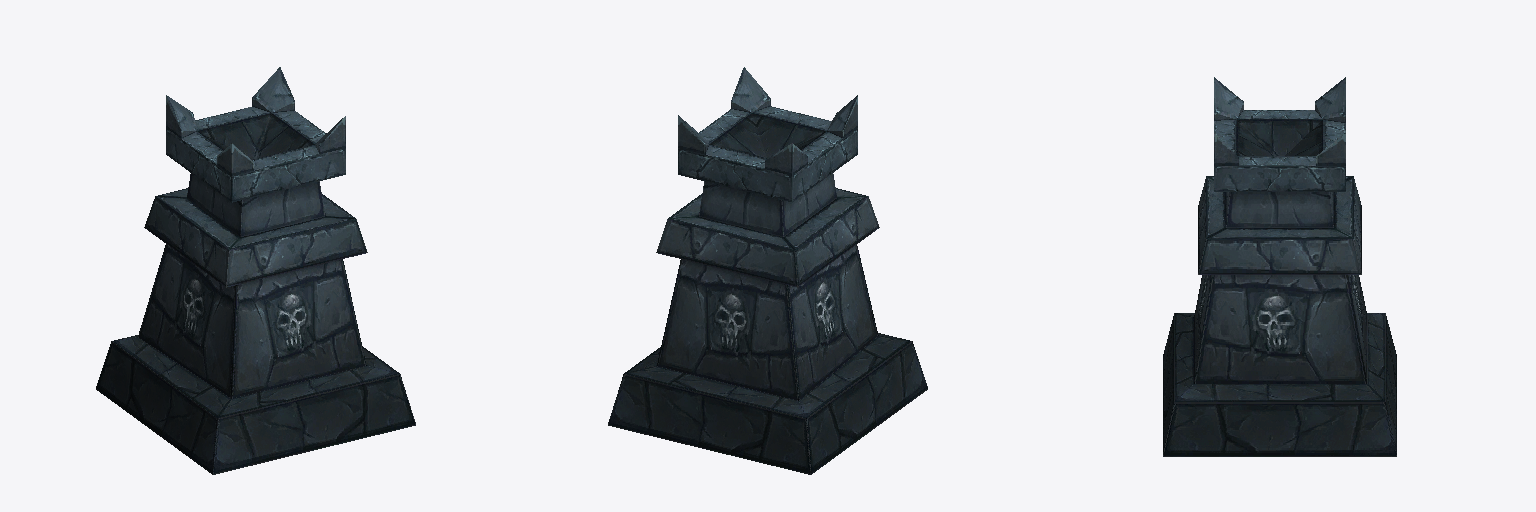
3 views of the same model, side by side, from view 1: azimuth 30°, elevation 25°; view 2: azimuth 150°, elevation 25°; view 3: azimuth 270°, elevation 25° (orthographic).
Parts seen in each view (by area): view 1: sc_crystal_base0; view 2: sc_crystal_base0; view 3: sc_crystal_base0.
Part boxes in pixels (x1,y1,x2,y2): sc_crystal_base0: (96,67,415,474); sc_crystal_base0: (608,67,927,474); sc_crystal_base0: (1163,77,1396,456).
Size of the model in its own units: 2.51 by 3.56 by 2.51.
1 materials, 1 textured.